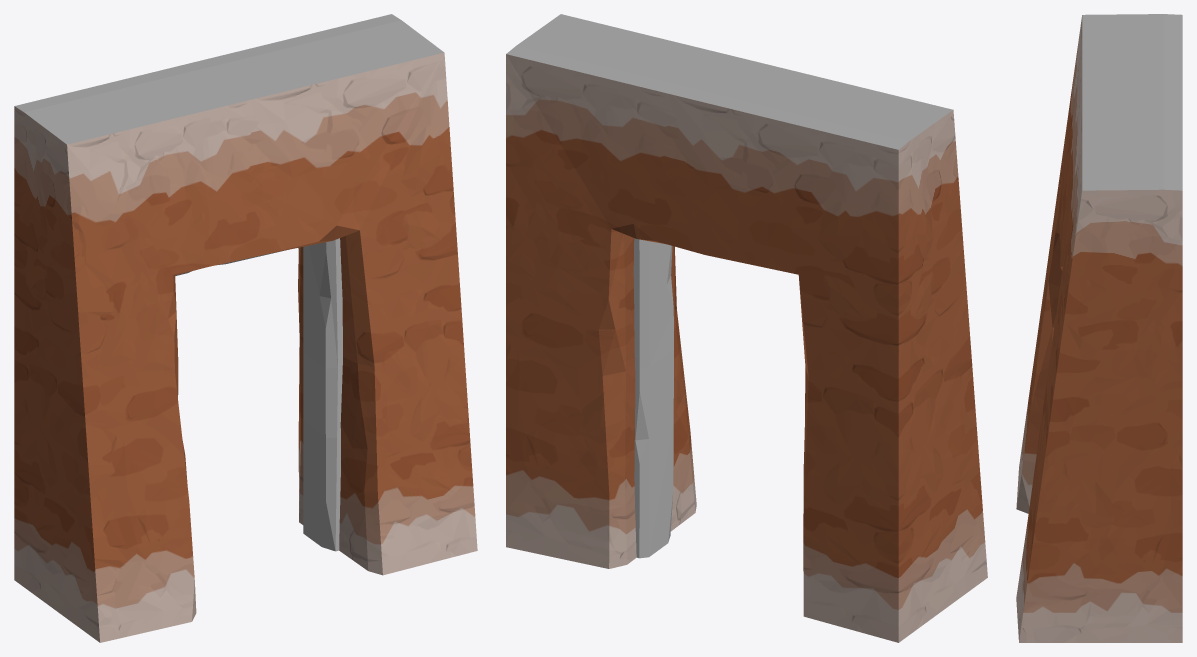
Rendered from SM_Bld_Wall_Ground_Door_01.fbx.
The picture shows the model from 3 angles, left to right: view 1: azimuth 30°, elevation 25°; view 2: azimuth 150°, elevation 25°; view 3: azimuth 270°, elevation 25°; orthographic projection. The views are drawn at different scales.
Visible parts, largest first — view 1: SM_Bld_Wall_Ground_Door_01; view 2: SM_Bld_Wall_Ground_Door_01; view 3: SM_Bld_Wall_Ground_Door_01.
Boxes of the visible parts, box(x1,y1,x2,y2) form: SM_Bld_Wall_Ground_Door_01: box(14, 14, 477, 642); SM_Bld_Wall_Ground_Door_01: box(506, 14, 987, 642); SM_Bld_Wall_Ground_Door_01: box(1016, 14, 1182, 642).
Bounding box in the file's own units: 250 × 301 × 100.
